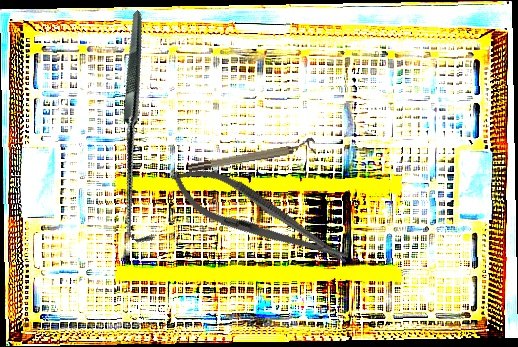Fixation Ring: (186, 137, 317, 174)
Hook Surgical: (21, 10, 260, 249)
Needle Holder: (162, 153, 358, 283)
